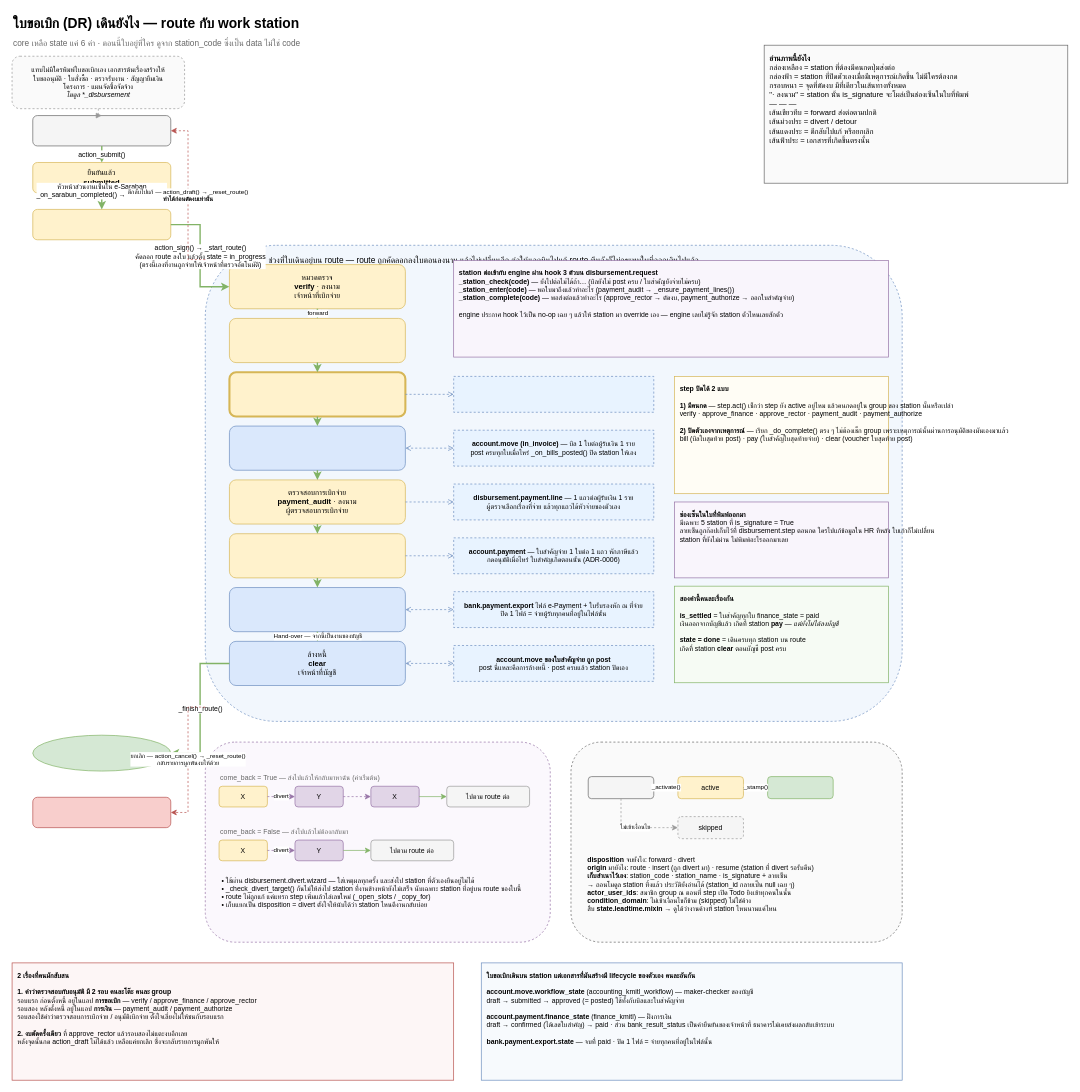
This 1080x1092 diagram has some shape labels left out. Here are the shapes that lost their labels. From the top down, the box of each, then its label:
(32, 115, 171, 146): ฉบับร่าง draft
(32, 209, 171, 240): ลงนามแล้ว signed
(229, 318, 405, 363): ผอ.กองคลังอนุมัติ approve_finance · ลงนาม ผู้อำนวยการกองคลัง
(228, 371, 406, 417): ผู้รับมอบอำนาจอนุมัติ approve_rector · ลงนาม ผู้รับมอบอำนาจอธิการบดี
(453, 376, 654, 412): budget.commitment — ผูกพันและตัดงบ _action_approve_budget()
(229, 425, 405, 470): ตั้งหนี้ bill เจ้าหน้าที่บัญชี
(229, 533, 405, 578): อนุมัติเบิกจ่าย payment_authorize · ลงนาม ผู้อนุมัติเบิกจ่าย (มอบอำนาจอธิการ)
(229, 587, 405, 632): จ่ายเงิน pay เจ้าหน้าที่การเงินจ่าย
(32, 735, 171, 771): เสร็จสิ้น done
(588, 776, 654, 799): waiting
(767, 776, 833, 799): done
(32, 797, 171, 828): ยกเลิกแล้ว cancel
(205, 741, 550, 942): divert กับ detour — ไม่มีคำว่า "ส่งกลับ" ในระบบนี้แล้ว
(570, 741, 902, 942): disbursement.step = ใบนี้แวะ station นี้ 1 ครั้ง
